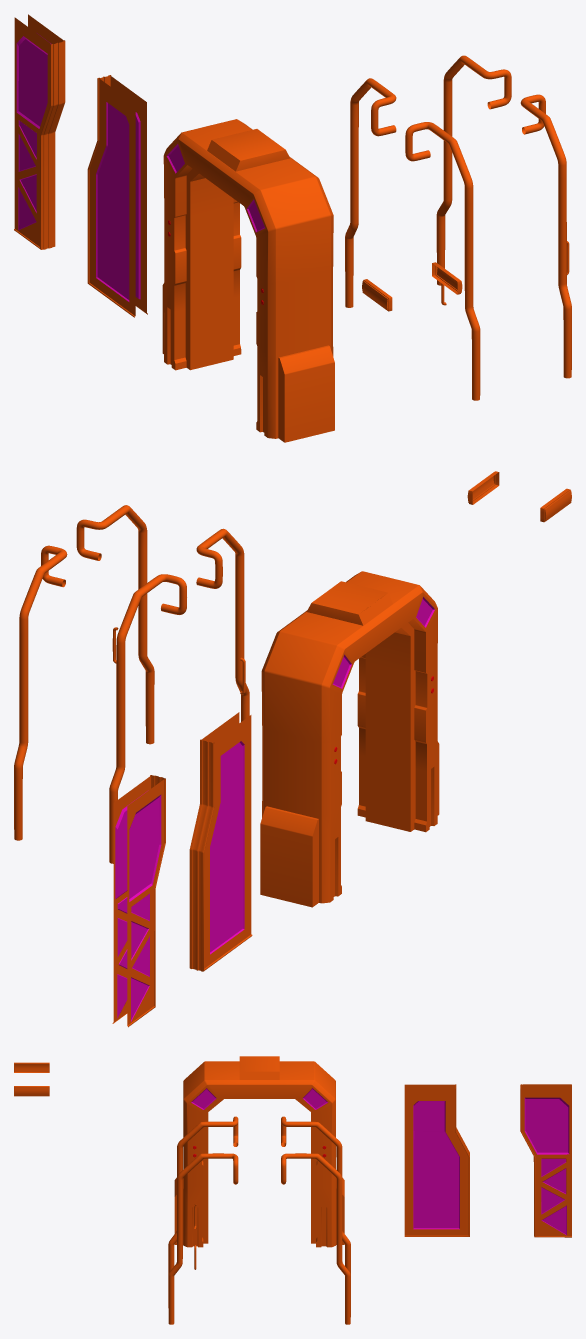
The model's file is E_Door_High_EXP.FBX.
The picture shows the model from 3 angles, top to bottom: view 1: azimuth 30°, elevation 25°; view 2: azimuth 150°, elevation 25°; view 3: azimuth 270°, elevation 25°; orthographic projection. The views are drawn at different scales.
Visible parts, largest first — view 1: E_Door_High_EXP; view 2: E_Door_High_EXP; view 3: E_Door_High_EXP.
Boxes of the visible parts, x1,y1,x2,y2 form: E_Door_High_EXP: (14, 14, 571, 442); E_Door_High_EXP: (14, 471, 571, 1027); E_Door_High_EXP: (14, 1056, 571, 1324).
Bounding box in the file's own units: 118 × 88.4 × 259.
